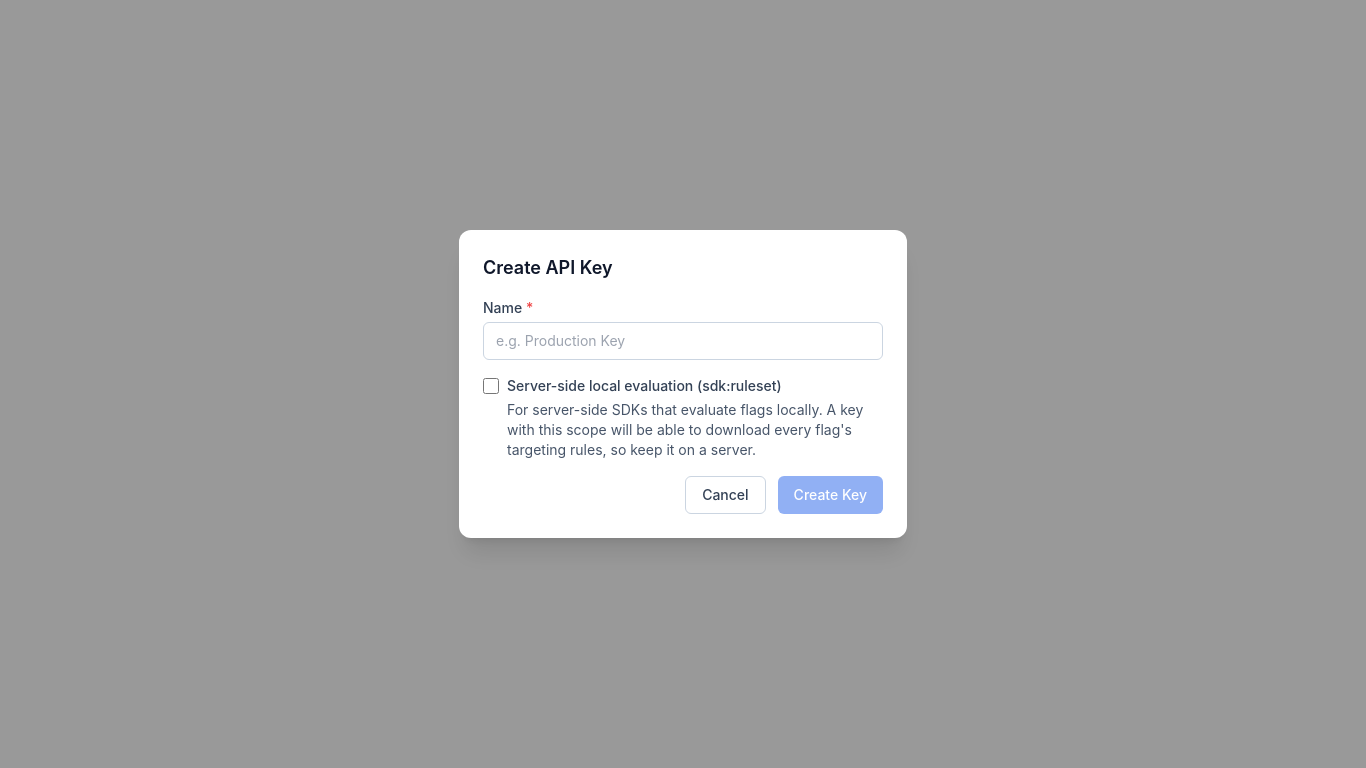
CreateApiKeyModal › shows the API error detail when creation fails
The image size is (1366, 768).
Type "Dup" into the field with test id "api-key-name-input" at coordinates (683, 341), box [483,322,883,360]
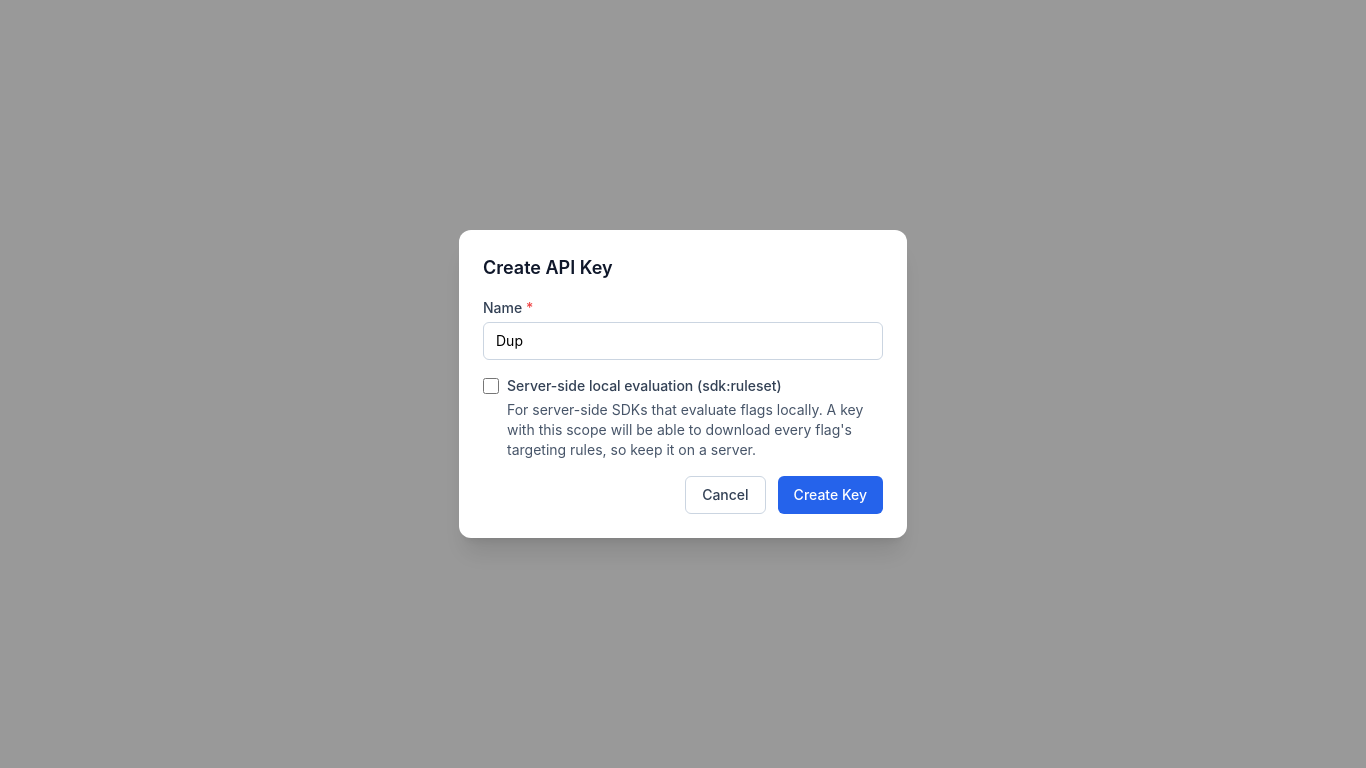
Click the button with test id "create-api-key-submit" at coordinates (830, 495), box [778,476,883,514]
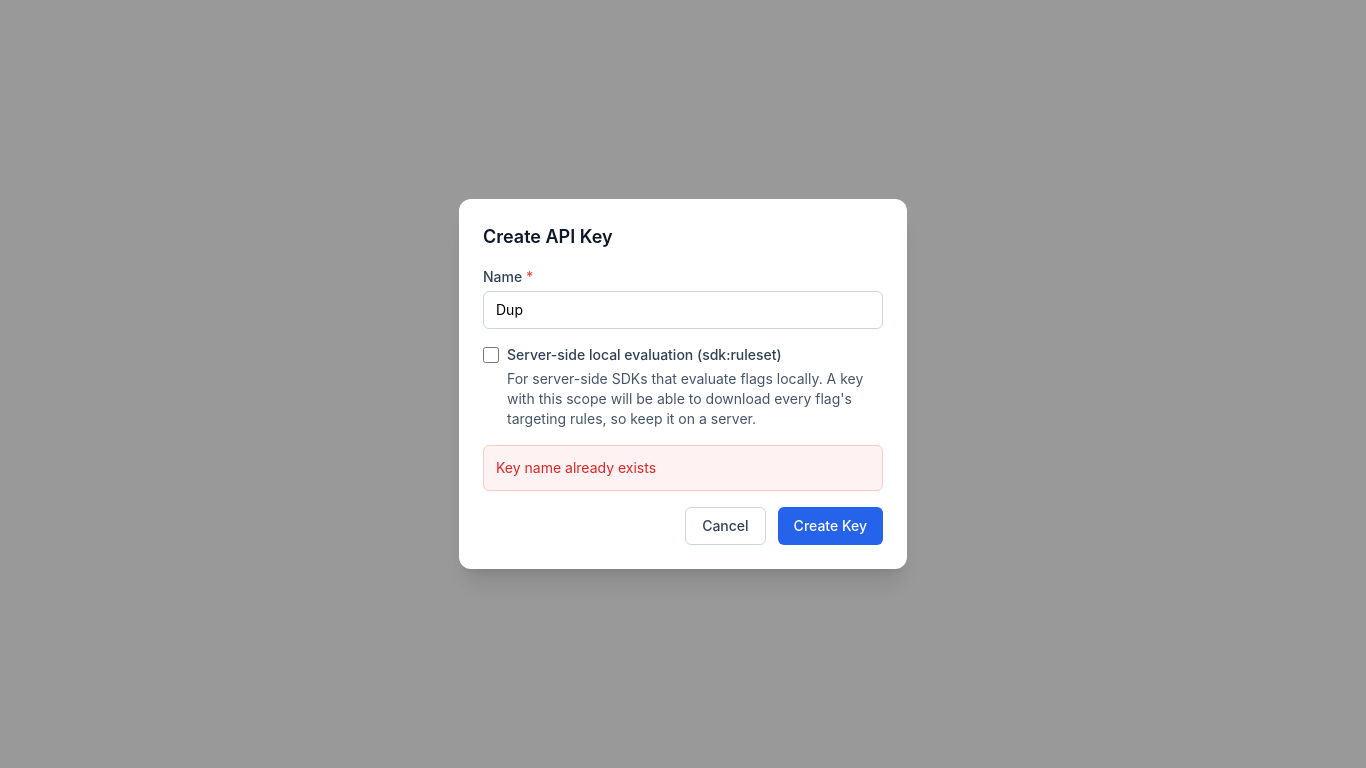
Expected: the text with test id "modal-error" reads "Key name already exists", [496,459,656,476]
